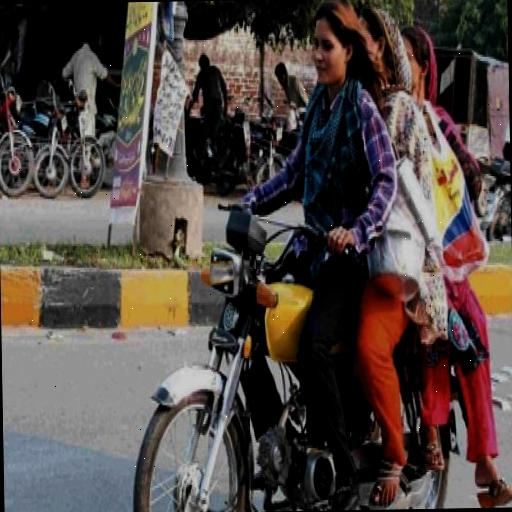no helmet: (306, 4, 360, 117)
triple riding: (209, 0, 501, 506)
